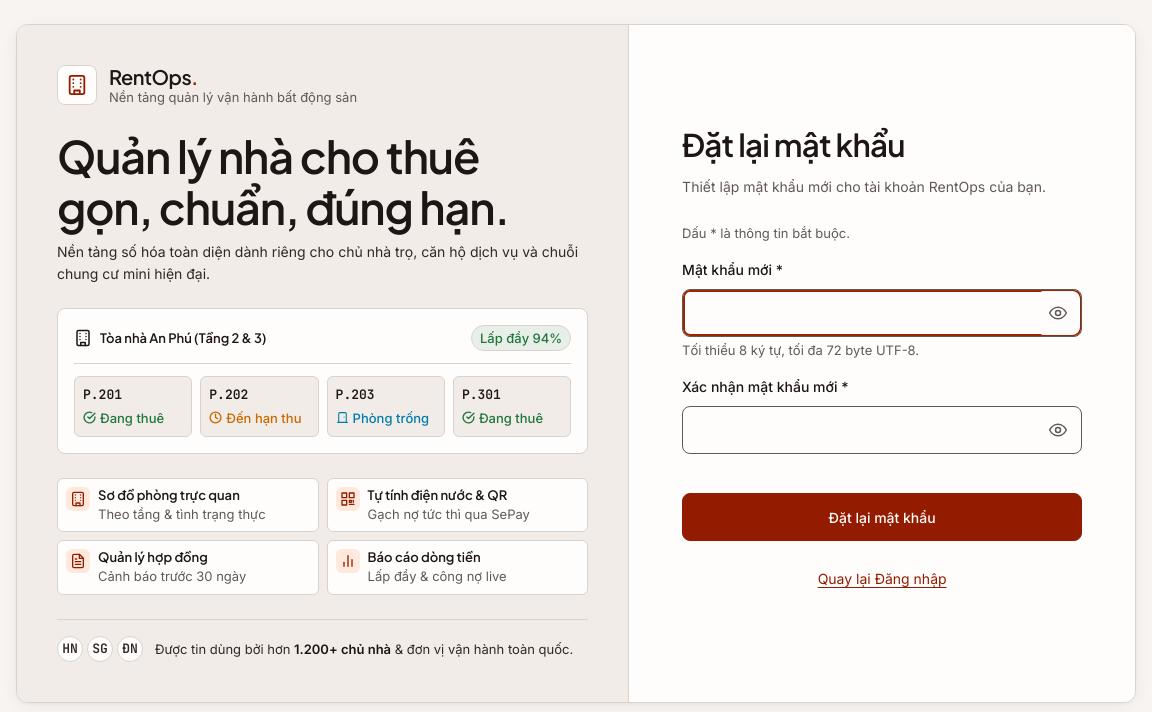
Scenario: UC06 integrated screens › handles reset result CSRF token bị thiếu hoặc không hợp lệ. Vui lòng lấy token mới và thử lại correctly
Type " newPassword123 " into the password field labelled "Mật khẩu mới *" at (882, 313), box [682,289,1082,337]
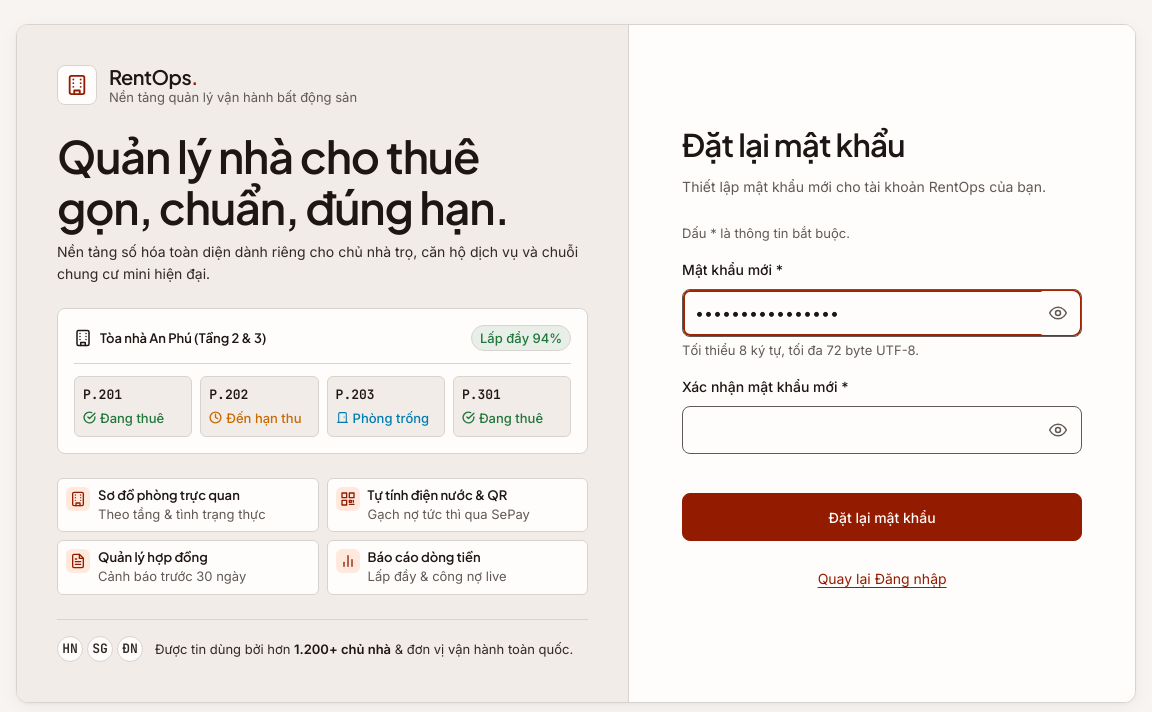
Type " newPassword123 " into the password field labelled "Xác nhận mật khẩu mới *" at (882, 430), box [682,406,1082,454]
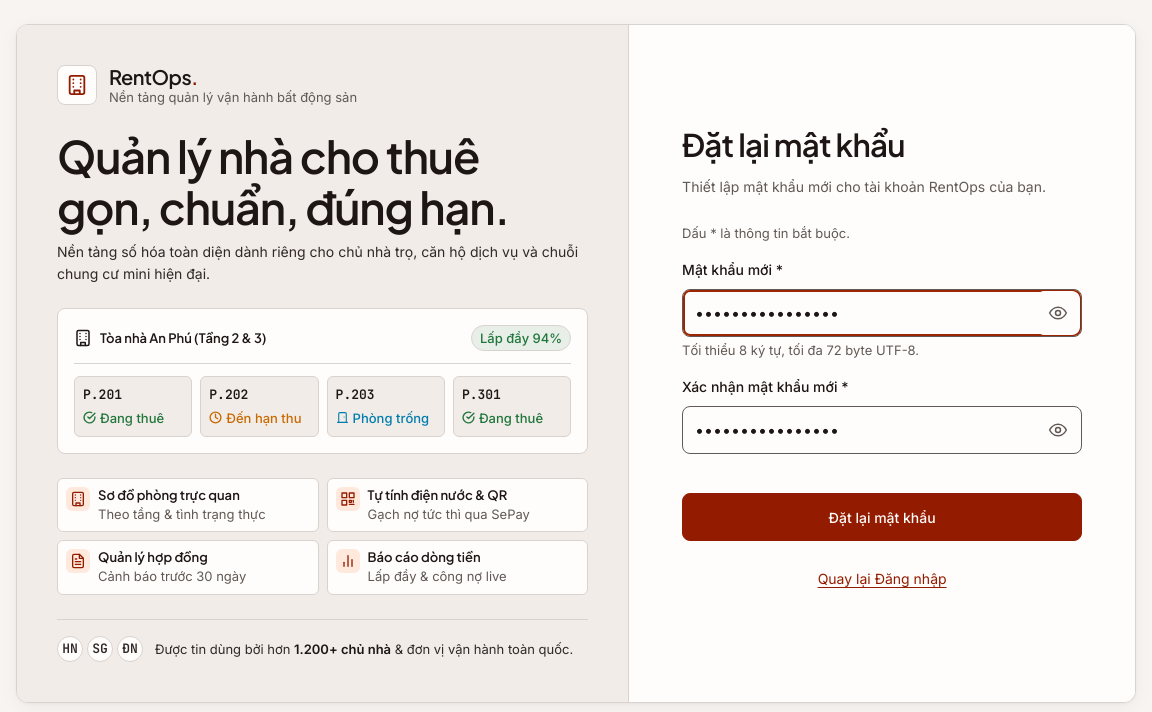
Submit the form with class "recovery-form", box [682,223,1082,541]
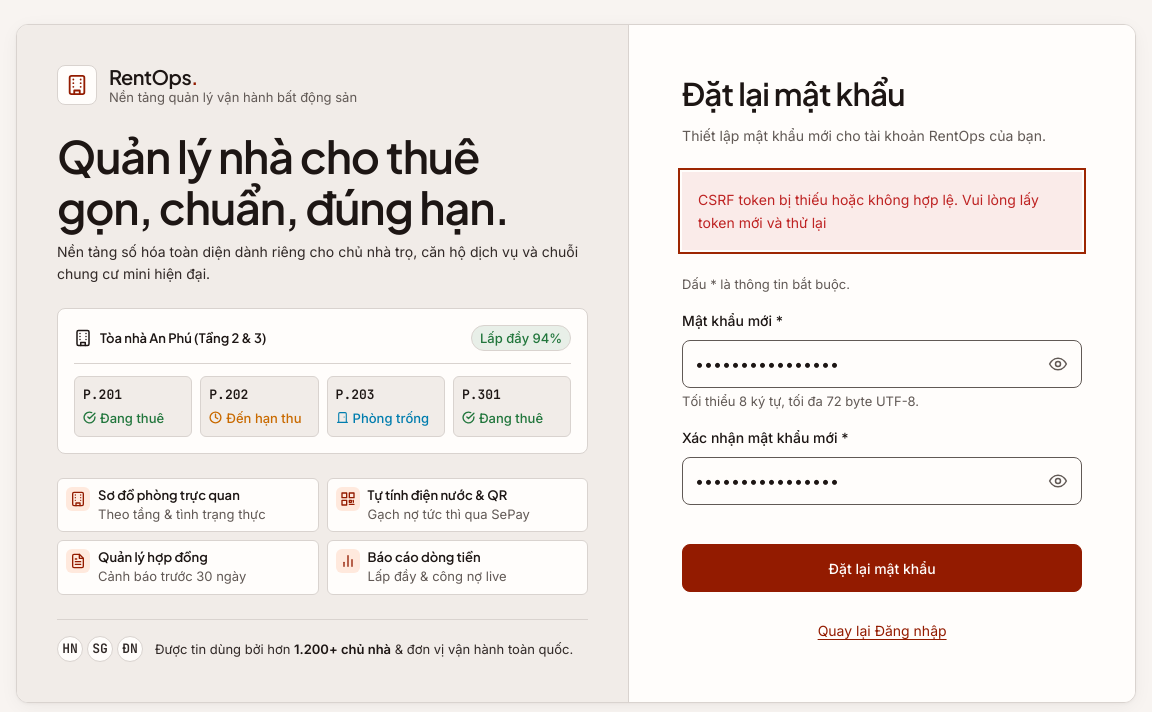
Now the text "CSRF token bị thiếu hoặc không hợp lệ. Vui lòng lấy token mới và thử lại" is shown, box [682,172,1082,250]
Click the button "Đặt lại mật khẩu" at (882, 568), box [682,544,1082,592]
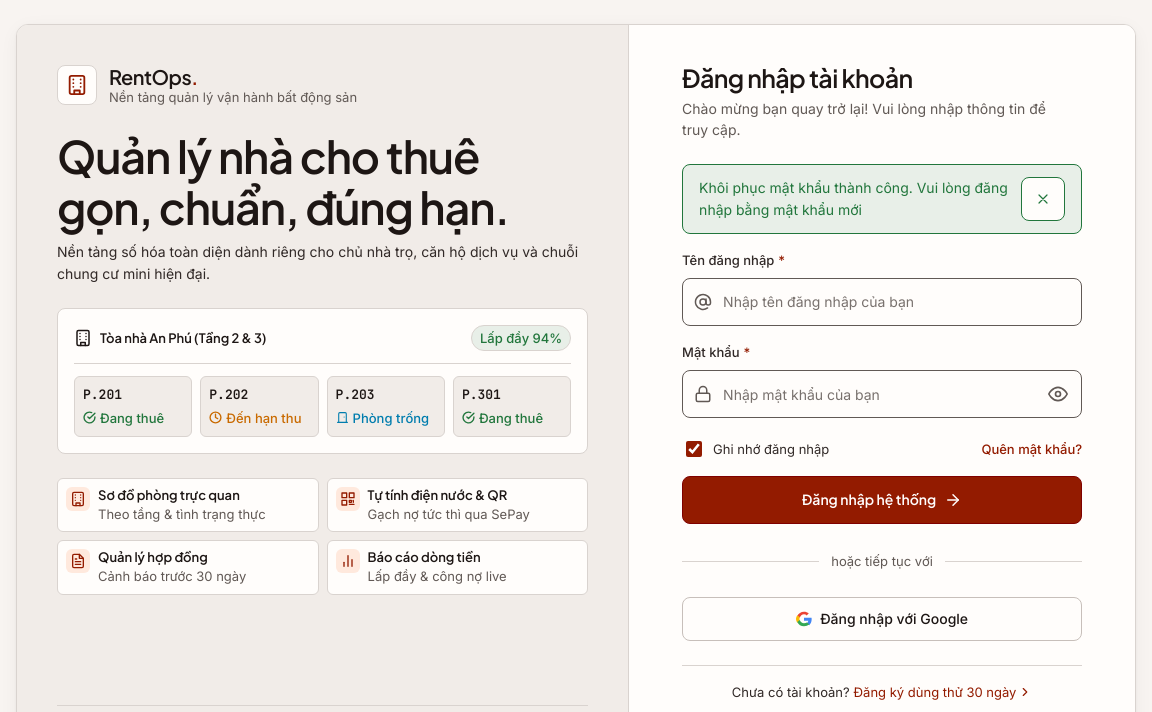
Now the text "Khôi phục mật khẩu thành công. Vui lòng đăng nhập bằng mật khẩu mới" is shown, box [699,177,1013,220]
